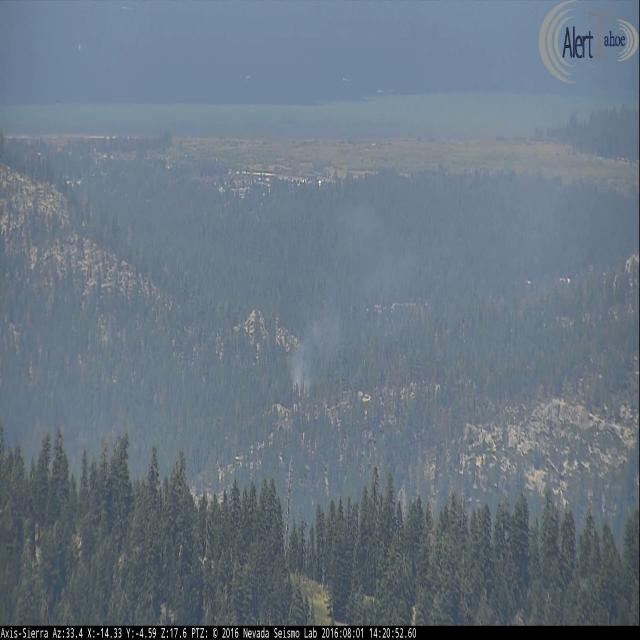smoke: (288, 344, 312, 400)
